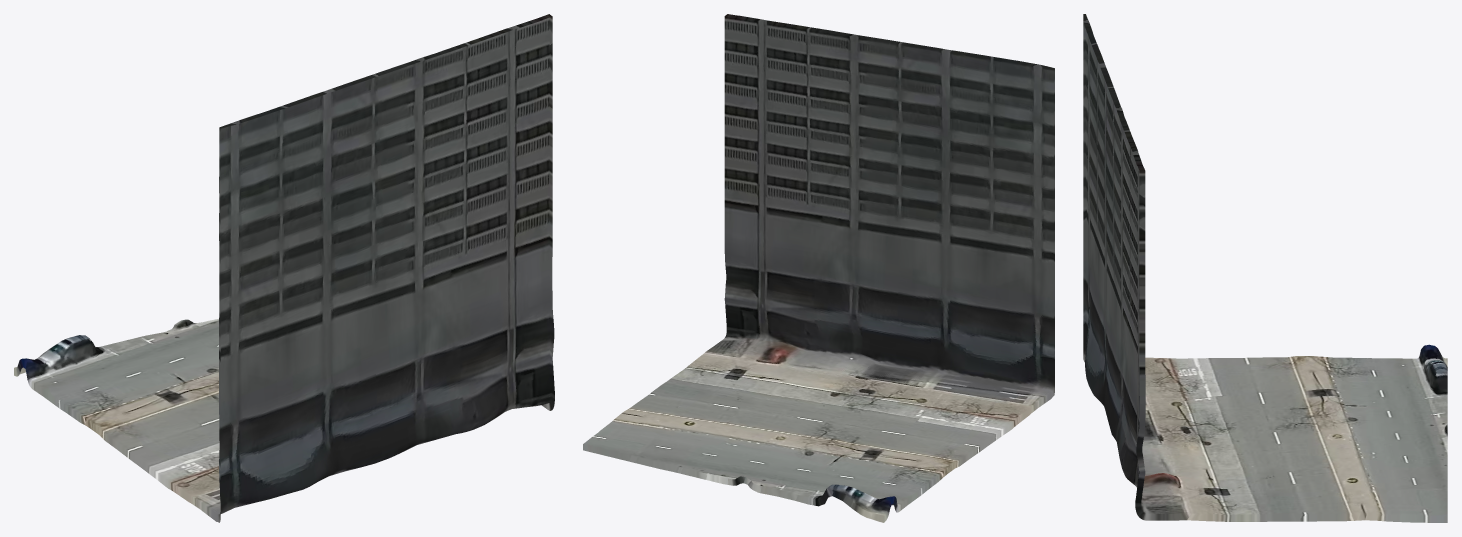
File: z20-167782-405225-h0-yup-uvflip-v3-world.glb
3 views of the same model, side by side, from view 1: azimuth 30°, elevation 25°; view 2: azimuth 150°, elevation 25°; view 3: azimuth 270°, elevation 25° (orthographic). The views are drawn at different scales.
Size of the model in its own units: 30.16 by 31.64 by 29.64.
Materials: 1 (1 with a texture image).
